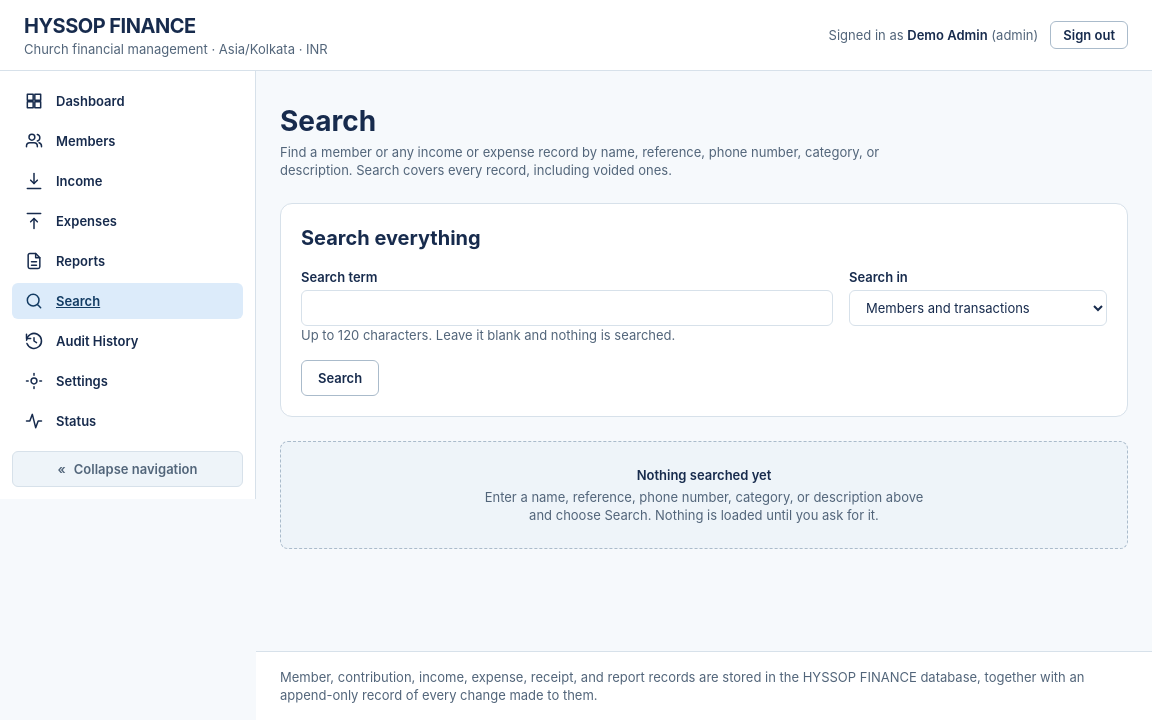
Scenario: the results › searches for the submitted term and reports the API count, not the page count
Expected: the heading "Search" is shown, [280,104,376,138]
Type "HY" into the search field labelled "Search term" at (567,308), box [301,290,833,326]
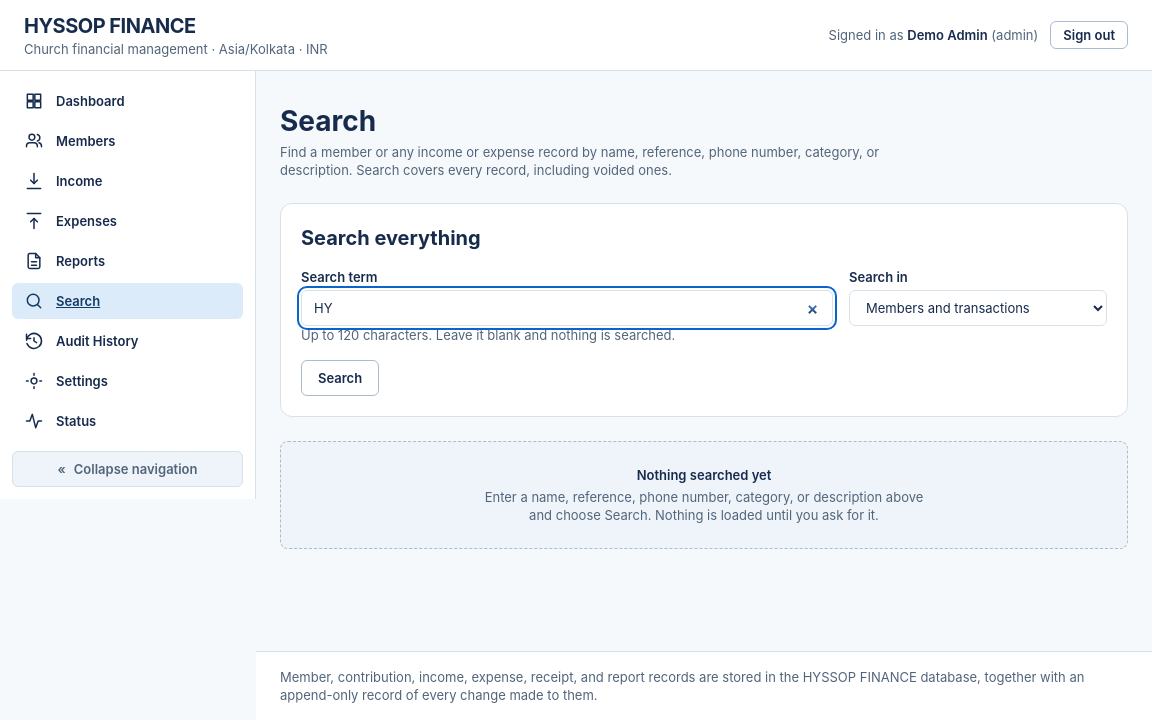
Click the button "Search" at (340,378), box [301,360,379,396]
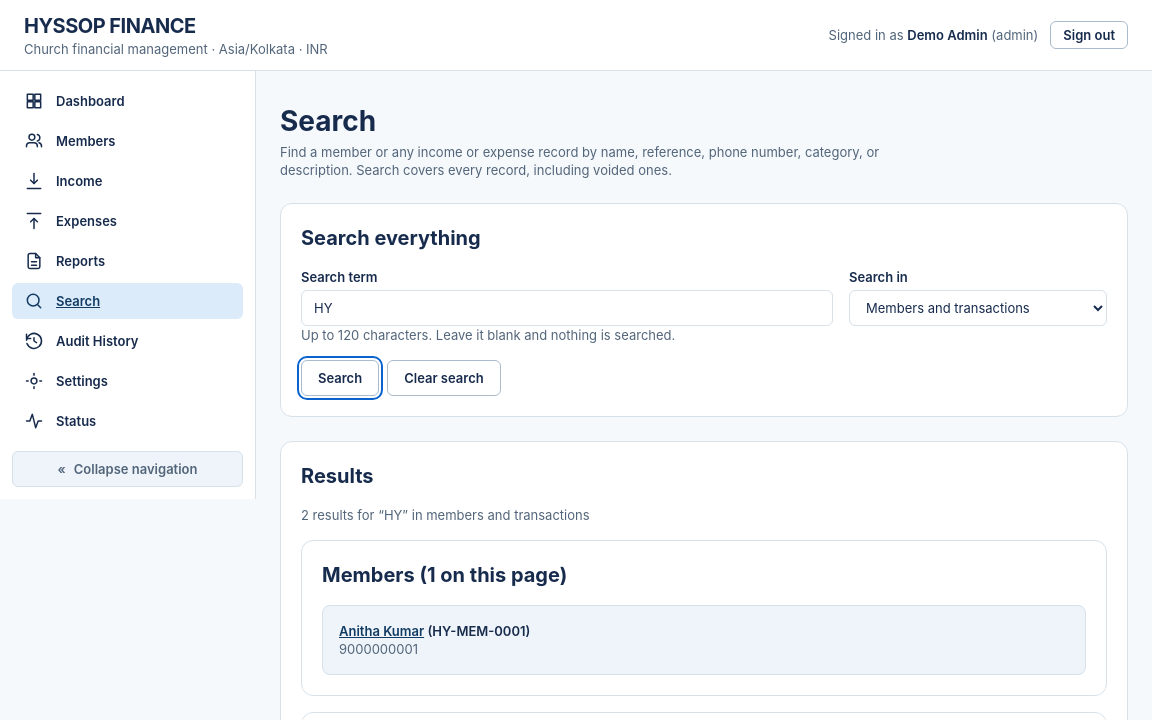
Result: the text with test id "result-count" shows "2 results for “HY”" at [301,507,590,523]
